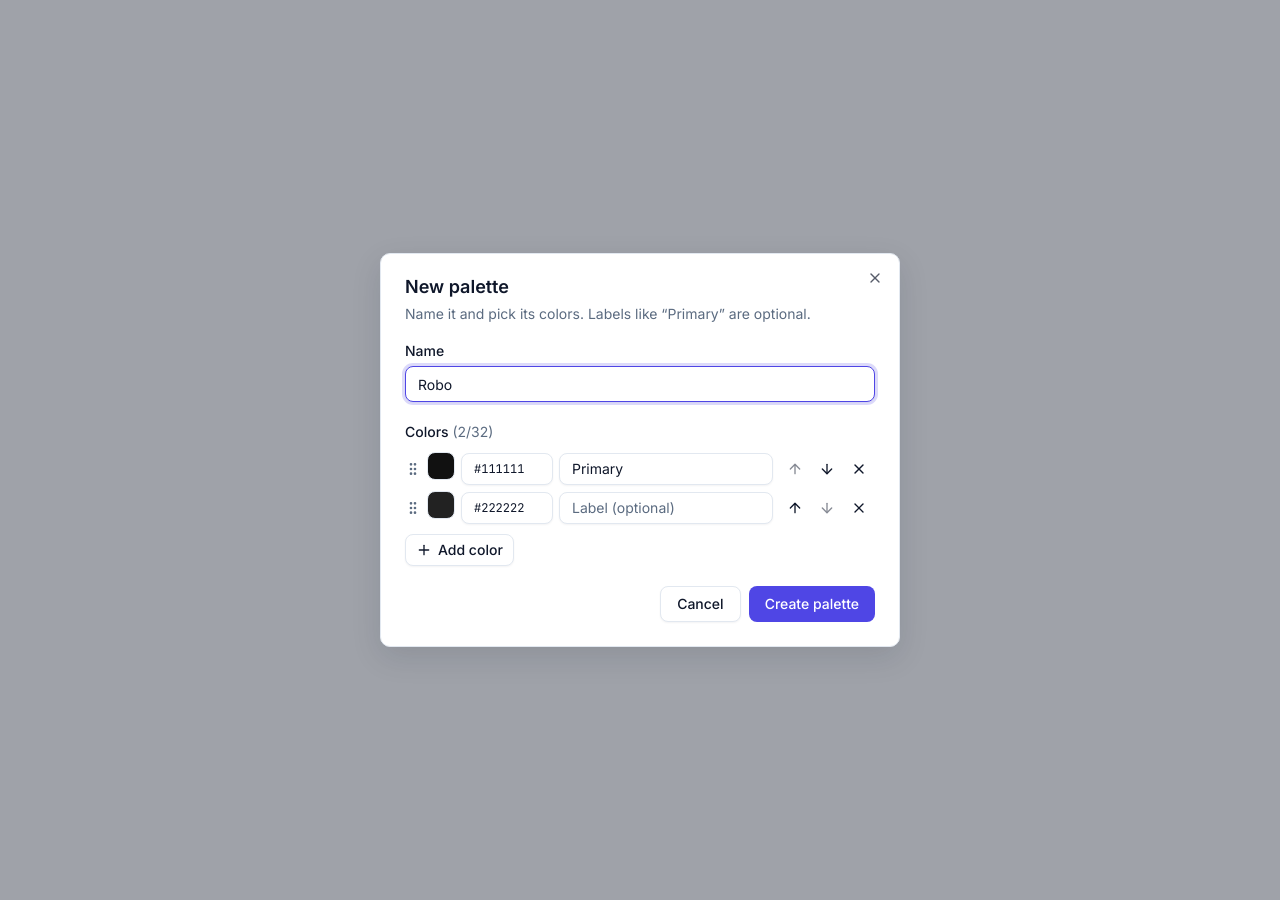
Scenario: PresetDialog › never removes the last color
Click the button named "Remove color 1" at (859, 468), box [843,452,875,484]
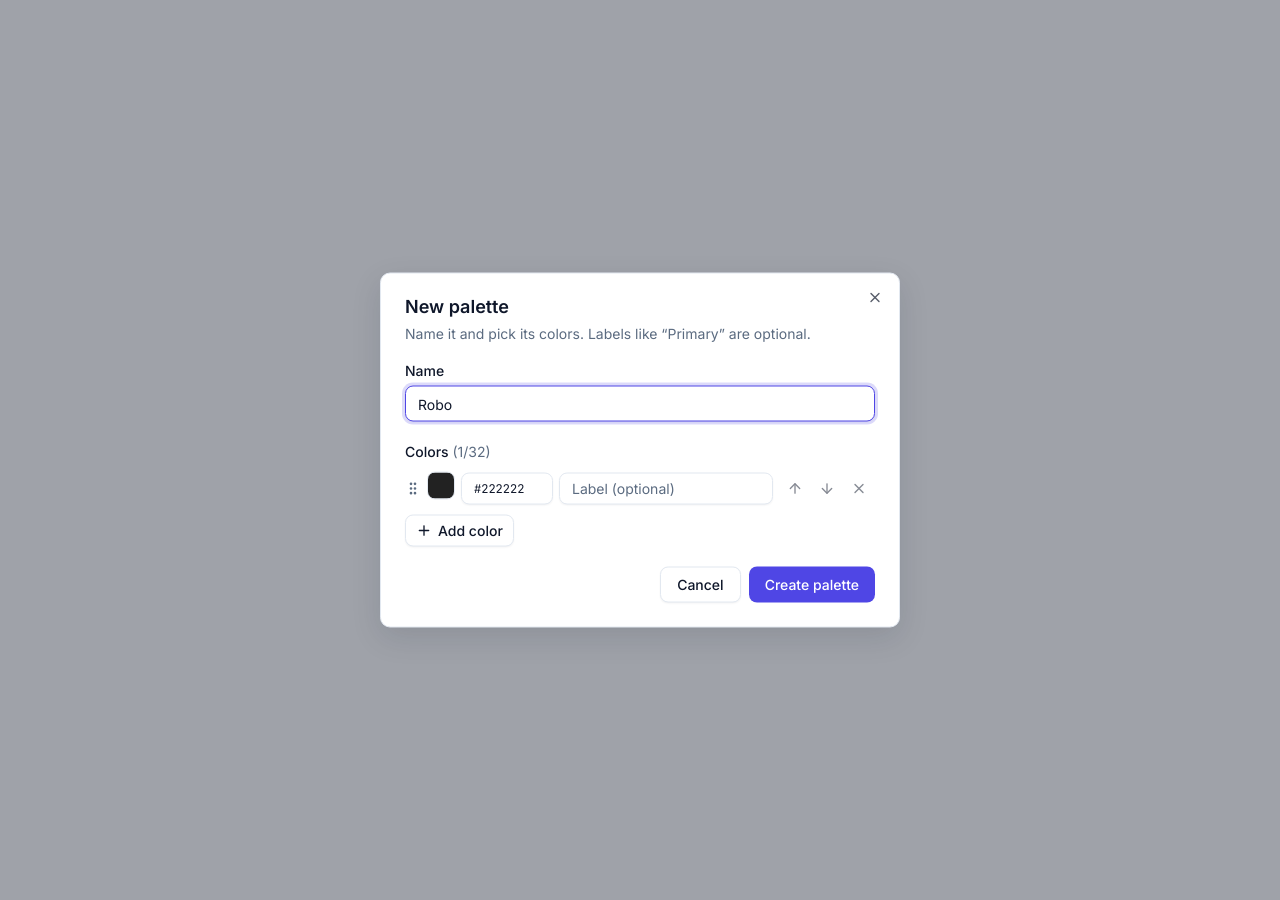
Expected: the button named "Remove color 1" is disabled, [843,472,875,504]
